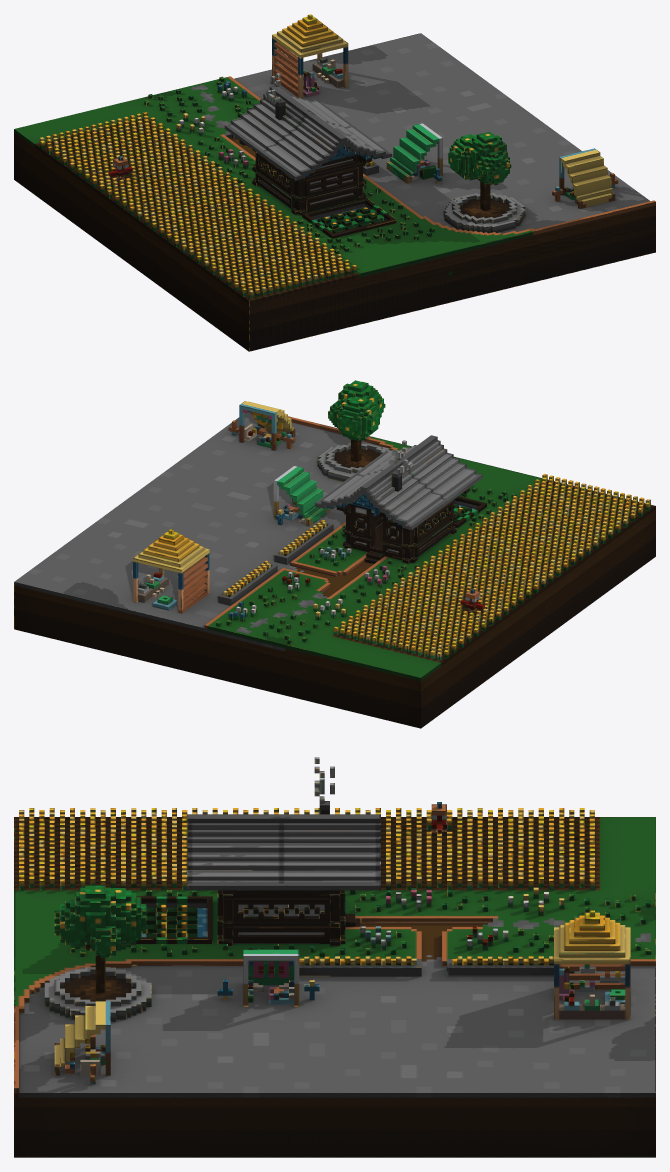
3 views of the same model, one above another, from view 1: azimuth 30°, elevation 25°; view 2: azimuth 150°, elevation 25°; view 3: azimuth 270°, elevation 25° (orthographic). The views are drawn at different scales.
Parts seen in each view (by area): view 1: _B; view 2: _B; view 3: _B.
Part boxes in pixels (x1=…): _B: x1=14, y1=14, x2=655, y2=351; _B: x1=14, y1=380, x2=655, y2=728; _B: x1=14, y1=757, x2=655, y2=1157.
Size of the model in its own units: 126 by 126 by 48.
1 material, 1 textured.
